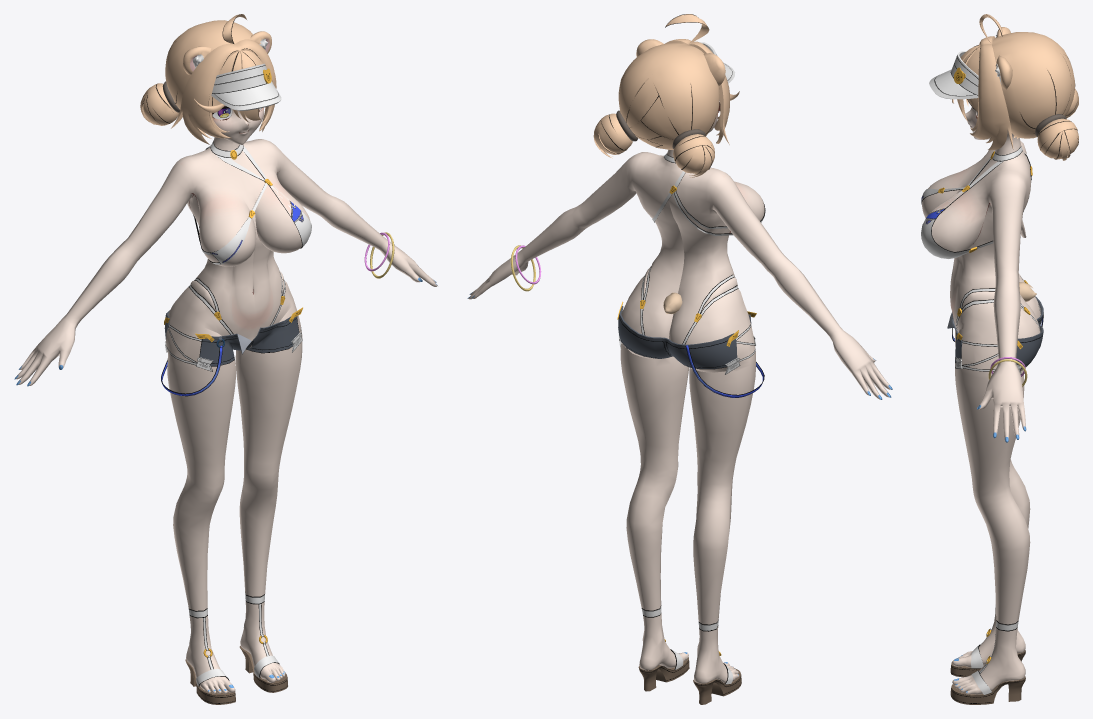
File: aurion-ember.glb
3 renders of one model, left to right at view 1: azimuth 30°, elevation 25°; view 2: azimuth 150°, elevation 25°; view 3: azimuth 270°, elevation 25°, orthographic.
Visible parts, largest first — view 1: _2000106_BODY_Outline_0, _2000106_HAIR_Outline_0, _2000106_BODY_Outline_1, _2000106_FACE_0; view 2: _2000106_BODY_Outline_0, _2000106_HAIR_Outline_0; view 3: _2000106_BODY_Outline_0, _2000106_HAIR_Outline_0, _2000106_BODY_Outline_1.
Part boxes in pixels (<box>): _2000106_BODY_Outline_0: <box>14,63,437,704</box>; _2000106_HAIR_Outline_0: <box>140,14,276,144</box>; _2000106_BODY_Outline_1: <box>214,65,278,105</box>; _2000106_FACE_0: <box>212,105,263,144</box>; _2000106_BODY_Outline_0: <box>467,42,892,704</box>; _2000106_HAIR_Outline_0: <box>593,14,739,177</box>; _2000106_BODY_Outline_0: <box>921,51,1043,704</box>; _2000106_HAIR_Outline_0: <box>952,14,1078,160</box>; _2000106_BODY_Outline_1: <box>935,54,978,95</box>.
Size of the model in its own units: 1.43 by 2.18 by 0.4643.
4 materials, 3 textured.
